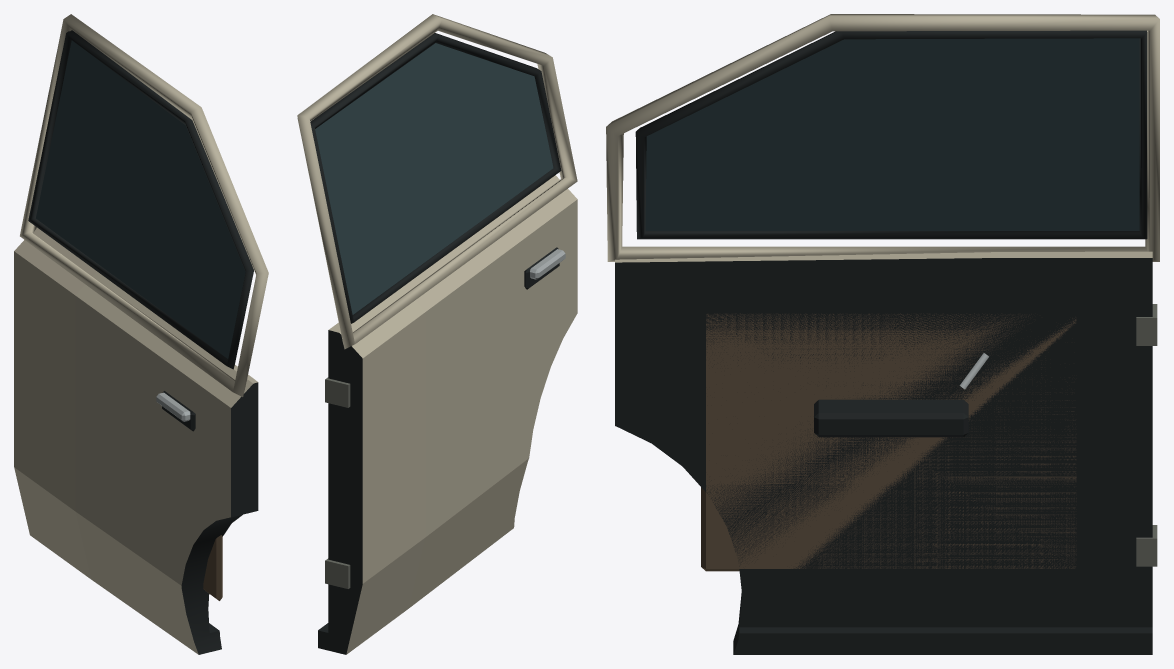
The model's file is zastava_101_door_rl.glb.
3 renders of one model, left to right at view 1: azimuth 30°, elevation 25°; view 2: azimuth 150°, elevation 25°; view 3: azimuth 270°, elevation 25°, orthographic. The views are drawn at different scales.
Visible parts, largest first — view 1: zastava_101_door_rl; view 2: zastava_101_door_rl; view 3: zastava_101_door_rl.
Part boxes in pixels (x1,y1,x2,y2): zastava_101_door_rl: (14, 14, 268, 654); zastava_101_door_rl: (297, 14, 577, 654); zastava_101_door_rl: (606, 14, 1159, 654).
Size of the model in its own units: 0.1892 by 1.2 by 0.9321.
